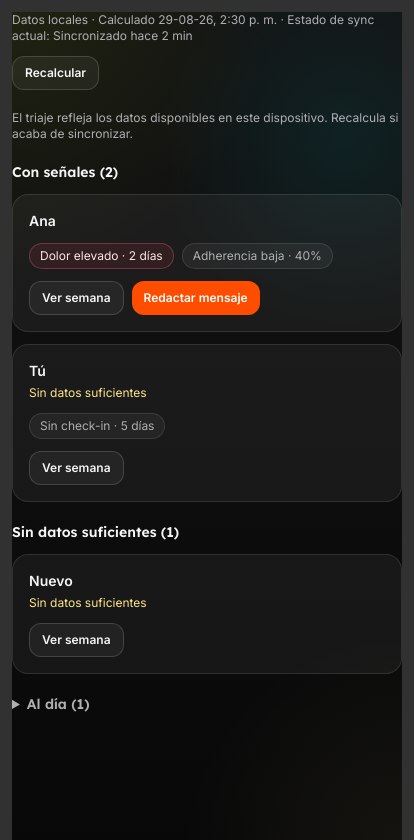
Test: CoachAssistantPanel › muestra el borrador para revisar y copiar sin acción de envío
The image size is (414, 840).
Step 1. Click the button with test id "draft-ath_a" → (196, 298), box [132,281,260,315]
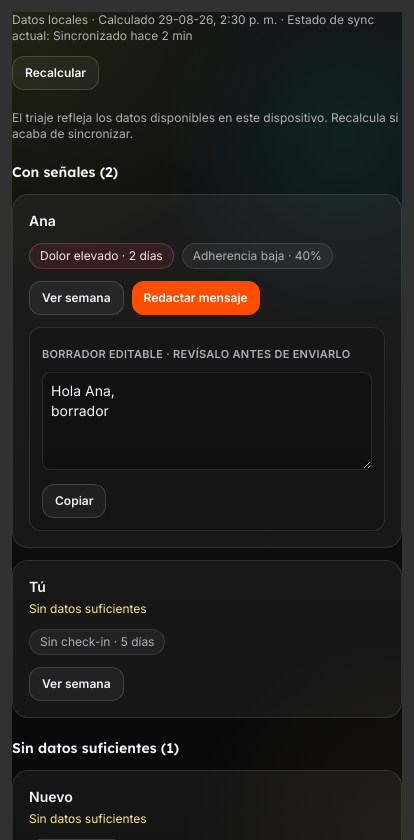
Expected: the text box with test id "draft-body-ath_a" shows "Borrador", [42,372,372,470]
